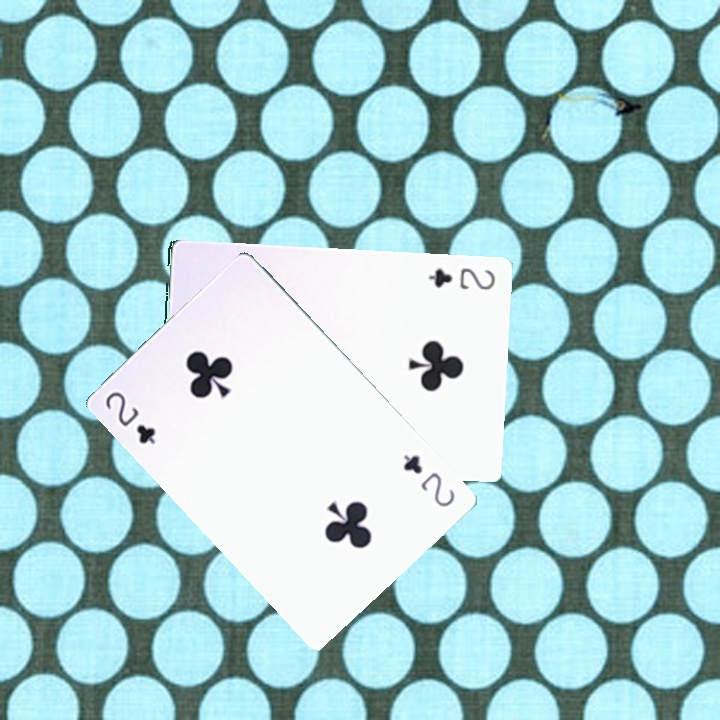2c: (399, 450, 458, 510), (100, 387, 159, 447), (424, 263, 498, 293)
